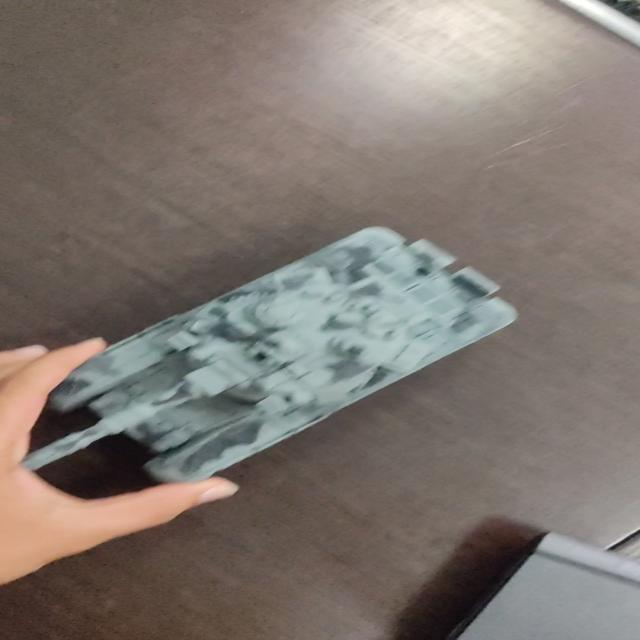tank: (0, 227, 523, 491)
